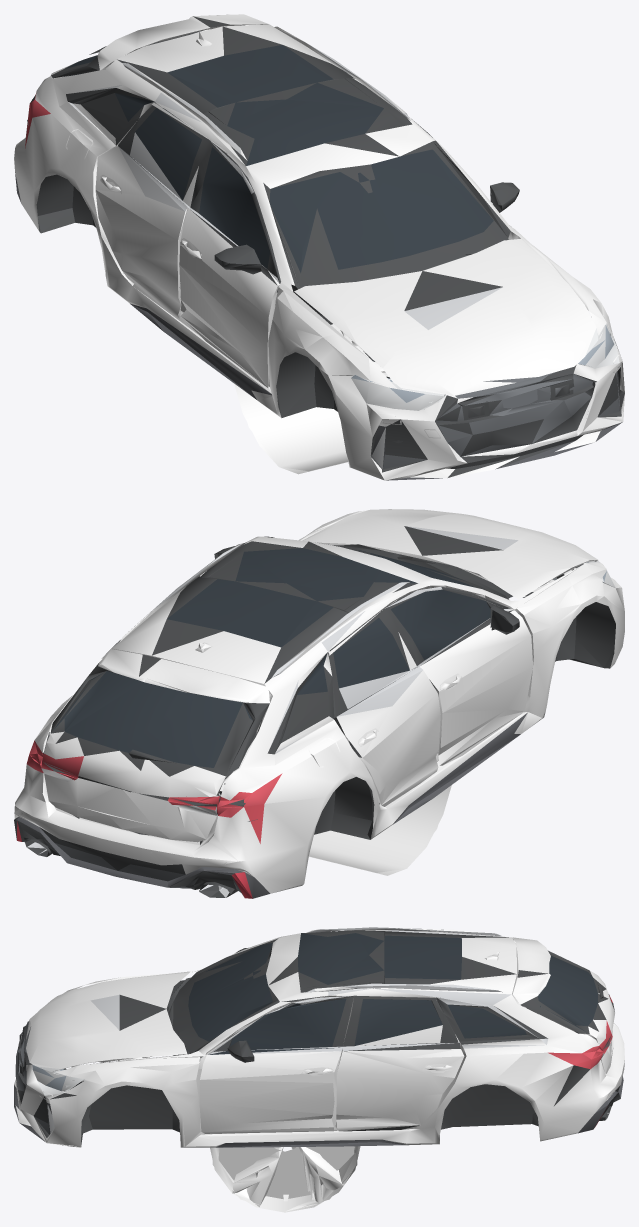
The model's file is audi_rs6_park.glb.
3 renders of one model, top to bottom at view 1: azimuth 30°, elevation 25°; view 2: azimuth 150°, elevation 25°; view 3: azimuth 270°, elevation 25°, orthographic. The views are drawn at different scales.
Visible parts, largest first — view 1: lod0, rim2, rim1; view 2: lod0, rim2, rim1; view 3: lod0, rim0, rim1, rim2.
Boxes of the visible parts, box(x1,y1,x2,y2) form: lod0: box(14, 14, 624, 480); rim2: box(236, 385, 348, 471); rim1: box(234, 383, 347, 474); lod0: box(14, 509, 624, 898); rim2: box(309, 786, 450, 872); rim1: box(309, 785, 451, 875); lod0: box(14, 927, 624, 1147); rim0: box(213, 1146, 357, 1211); rim1: box(210, 1146, 360, 1212); rim2: box(212, 1146, 357, 1212).
Size of what is drawn, in the model's own units: 2.09 by 2.11 by 4.98.
